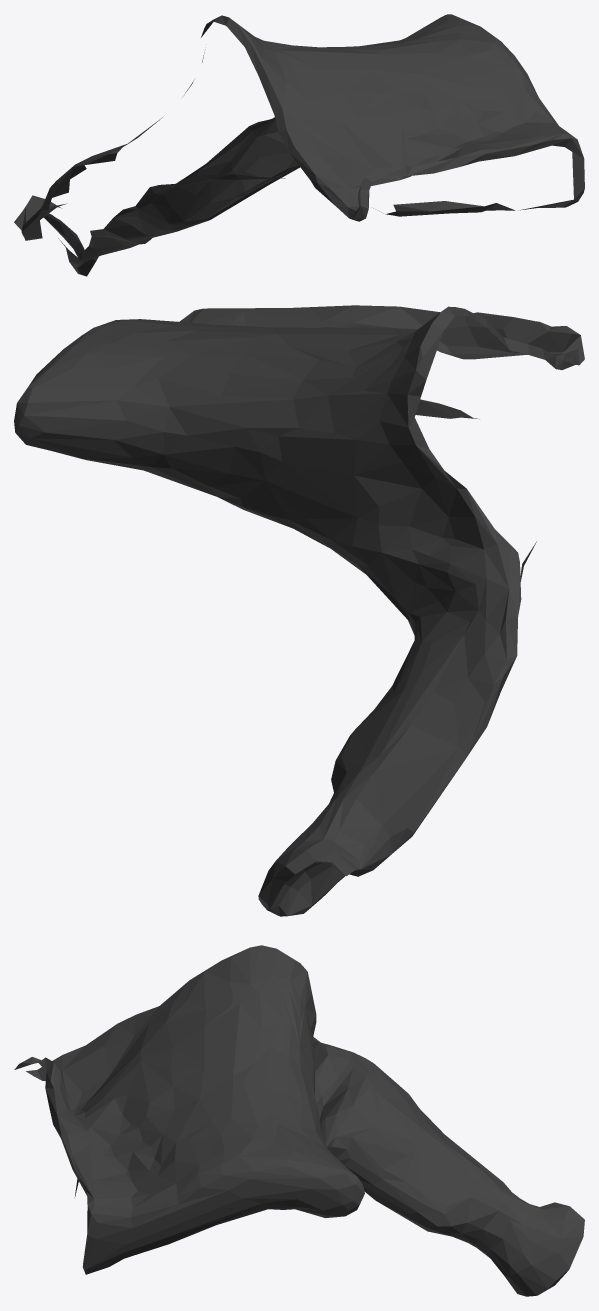
Rendered from right_longitudinal_pillar.glb.
3 renders of one model, top to bottom at view 1: azimuth 30°, elevation 25°; view 2: azimuth 150°, elevation 25°; view 3: azimuth 270°, elevation 25°, orthographic. The views are drawn at different scales.
Parts seen in each view (by area): view 1: right_longitudinal_pillar; view 2: right_longitudinal_pillar; view 3: right_longitudinal_pillar.
Boxes of the visible parts, x1,y1,x2,y2 form: right_longitudinal_pillar: (14,14,584,276); right_longitudinal_pillar: (14,305,584,916); right_longitudinal_pillar: (14,945,584,1296).
Size of the model in its own units: 0.8033 by 0.6852 by 0.9885.
Materials: 1 (1 with a texture image).
